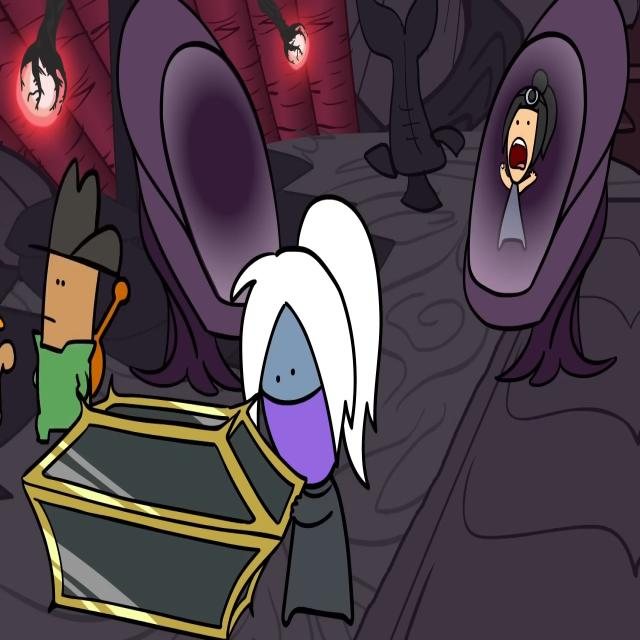Banjovi: (28, 158, 120, 442)
miss Demeanor: (238, 190, 383, 629)
